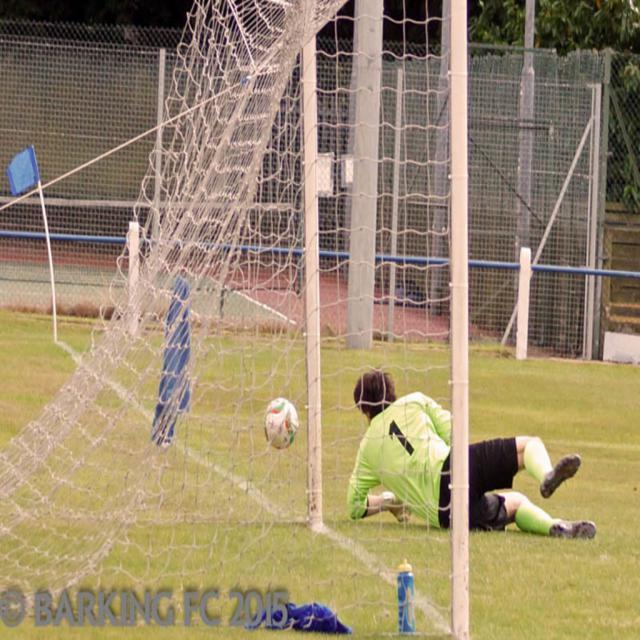football: (254, 397, 306, 451)
